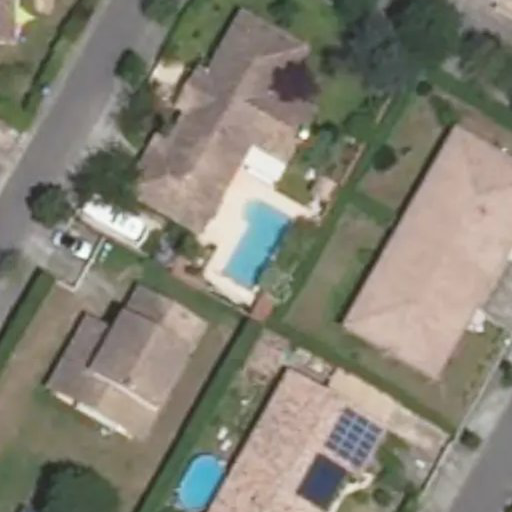pool: (222, 200, 294, 288), (178, 455, 225, 510)
